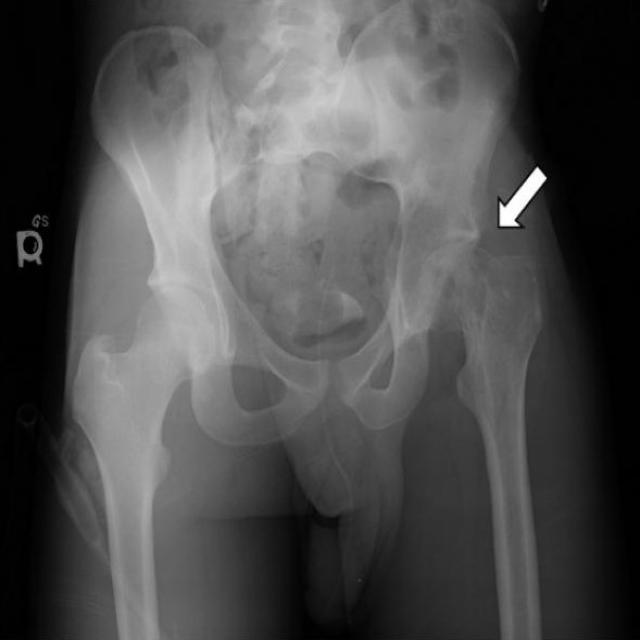pathological: (400, 213, 580, 386)
